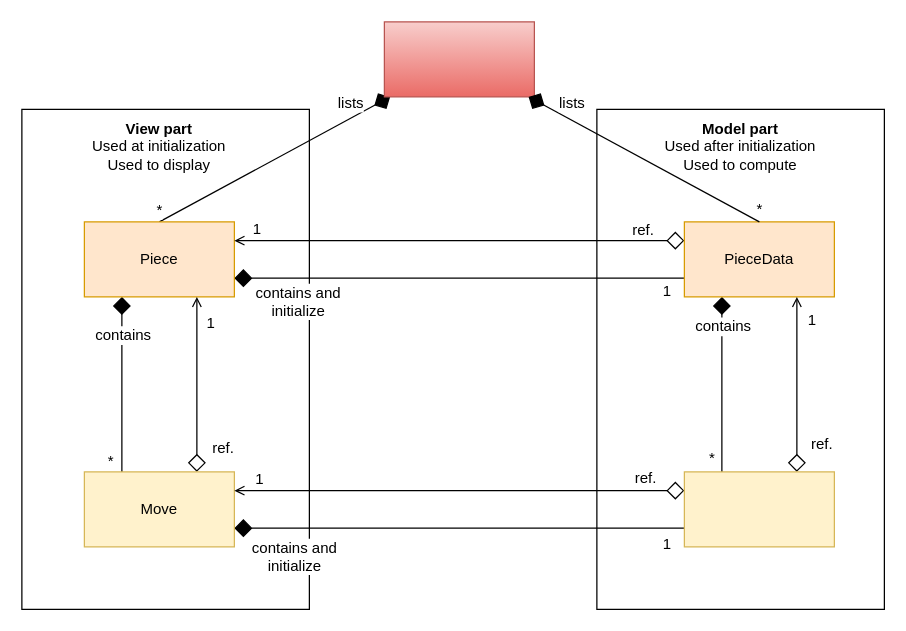
Some shapes in this 906 by 631 pixel diagram are drawn without their labels. Each missing label, with the centre of its shape:
"MoveData" belongs at (x=758, y=509).
"PieceManager" belongs at (x=458, y=59).
